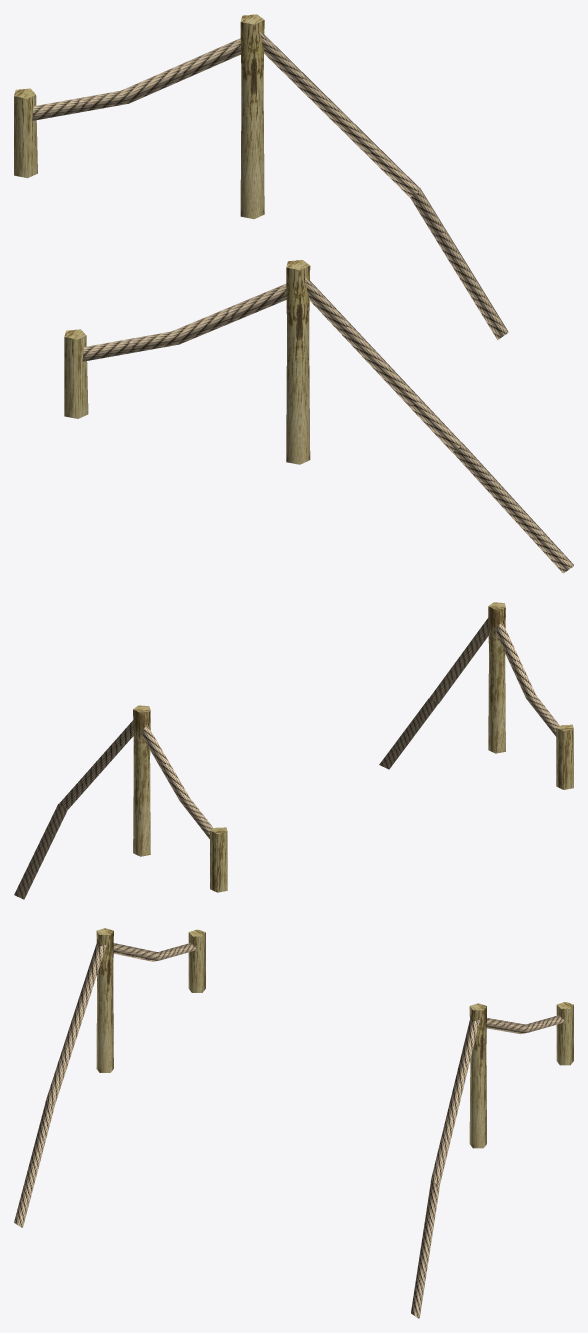
The model's file is track_chinese_env_woodensupports_04.FBX.
3 views of the same model, one above another, from view 1: azimuth 30°, elevation 25°; view 2: azimuth 150°, elevation 25°; view 3: azimuth 270°, elevation 25° (orthographic). The views are drawn at different scales.
Visible parts, largest first — view 1: track_chinese_env_woodensupports_04; view 2: track_chinese_env_woodensupports_04; view 3: track_chinese_env_woodensupports_04.
Boxes of the visible parts, <box> form: track_chinese_env_woodensupports_04: <box>14,14,573,573</box>; track_chinese_env_woodensupports_04: <box>14,602,573,899</box>; track_chinese_env_woodensupports_04: <box>14,928,573,1318</box>.
Size of the model in its own units: 11.52 by 6.21 by 13.11.
